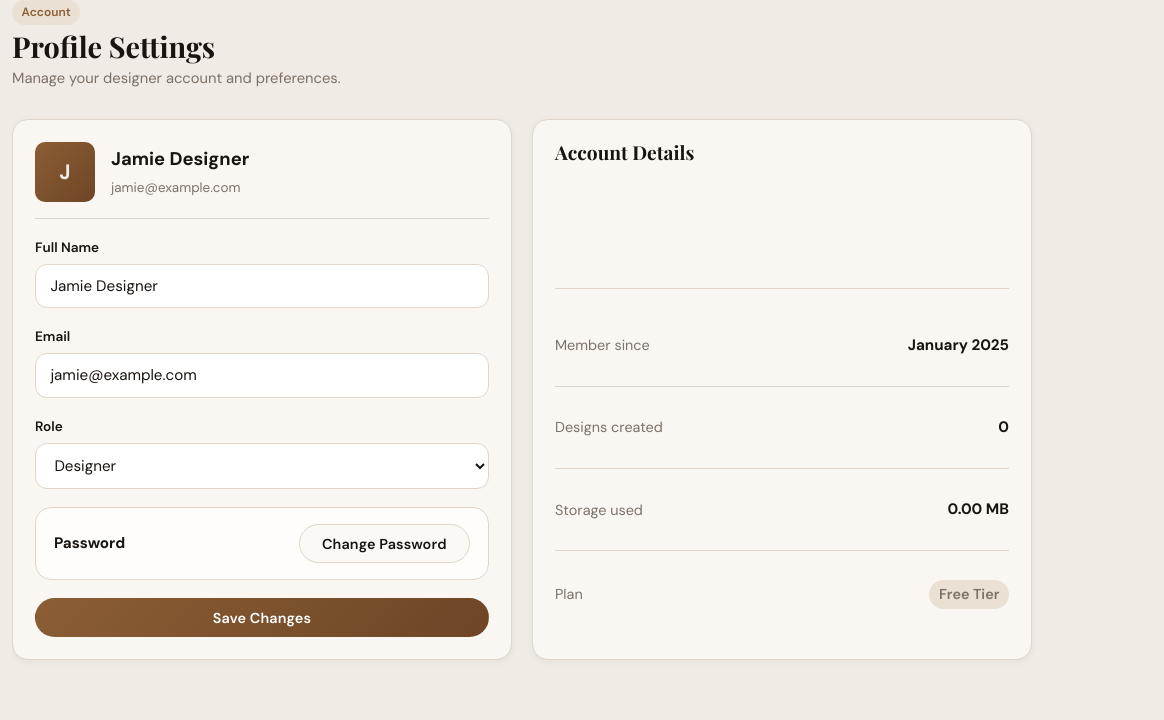
Profile › renders submit errors from failed updates
Click the button "Save Changes": (262, 618) [35,598,489,638]
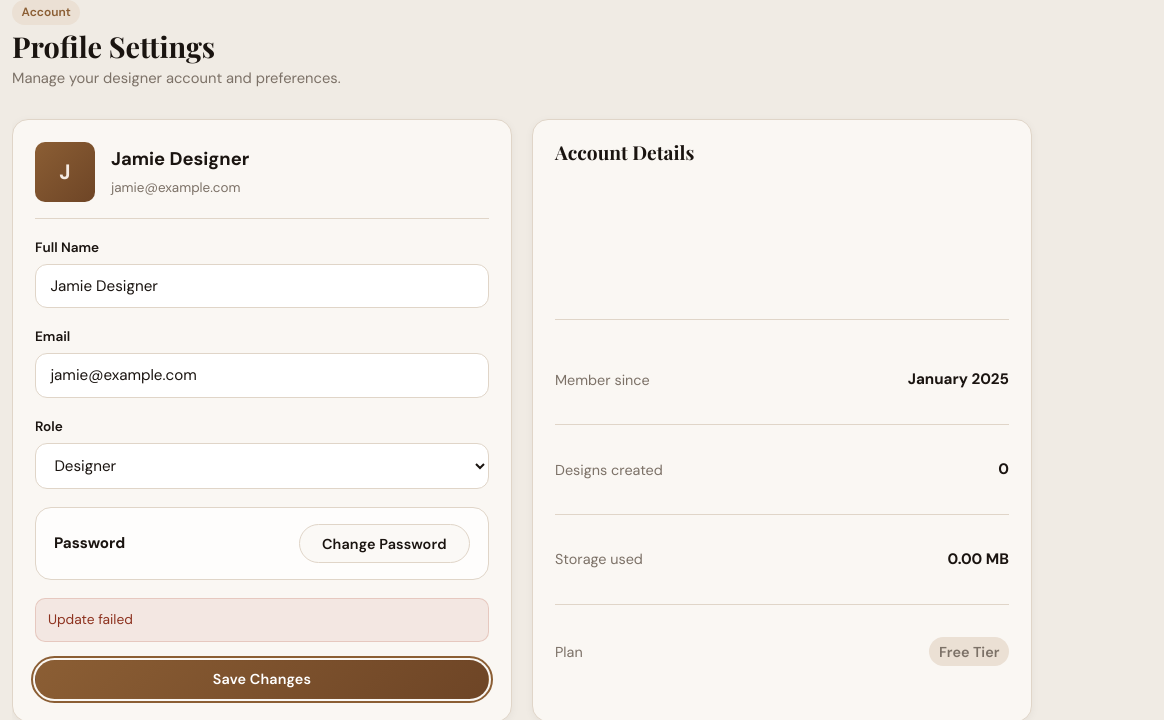
Result: the text "Update failed" is shown at [35,598,489,642]
